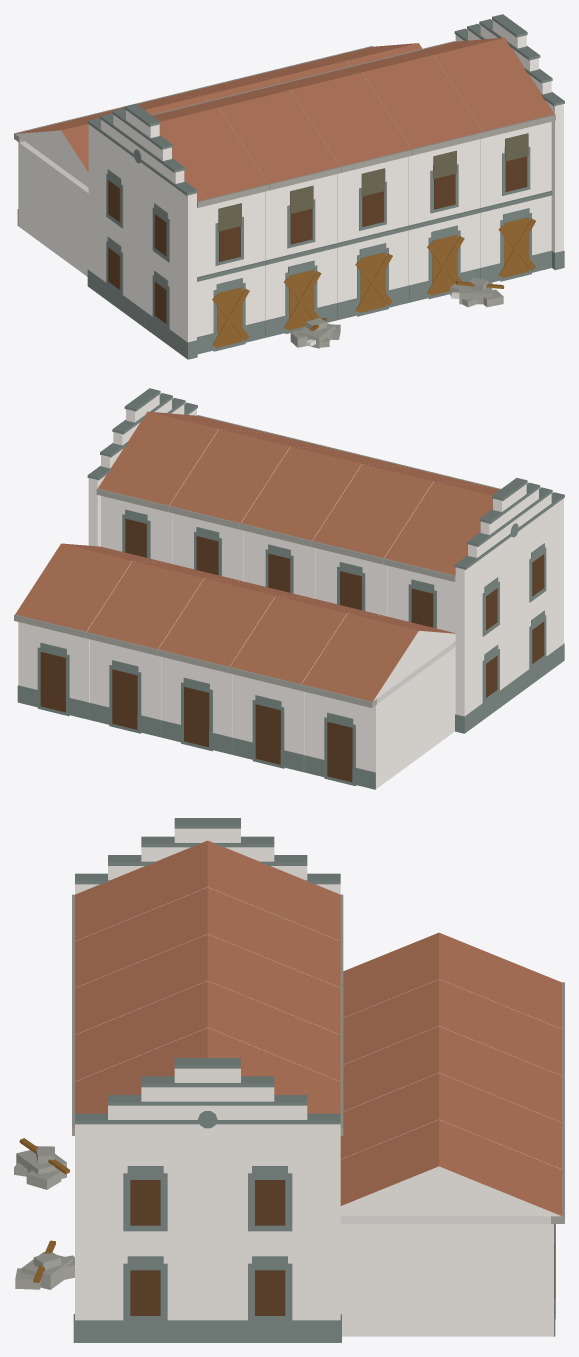
The model's file is SM_EdificioViajerosNules_v3_Caida_LOD0.fbx.
3 renders of one model, top to bottom at view 1: azimuth 30°, elevation 25°; view 2: azimuth 150°, elevation 25°; view 3: azimuth 270°, elevation 25°, orthographic. The views are drawn at different scales.
Parts seen in each view (by area): view 1: SM_edificio_viajeros_nules_v3_LOD0; view 2: SM_edificio_viajeros_nules_v3_LOD0; view 3: SM_edificio_viajeros_nules_v3_LOD0.
Part boxes in pixels (x1,y1,x2,y2): SM_edificio_viajeros_nules_v3_LOD0: (14, 14, 564, 359); SM_edificio_viajeros_nules_v3_LOD0: (14, 388, 564, 789); SM_edificio_viajeros_nules_v3_LOD0: (14, 818, 564, 1342).
Size of the model in its own units: 21.12 by 11.17 by 19.9.
